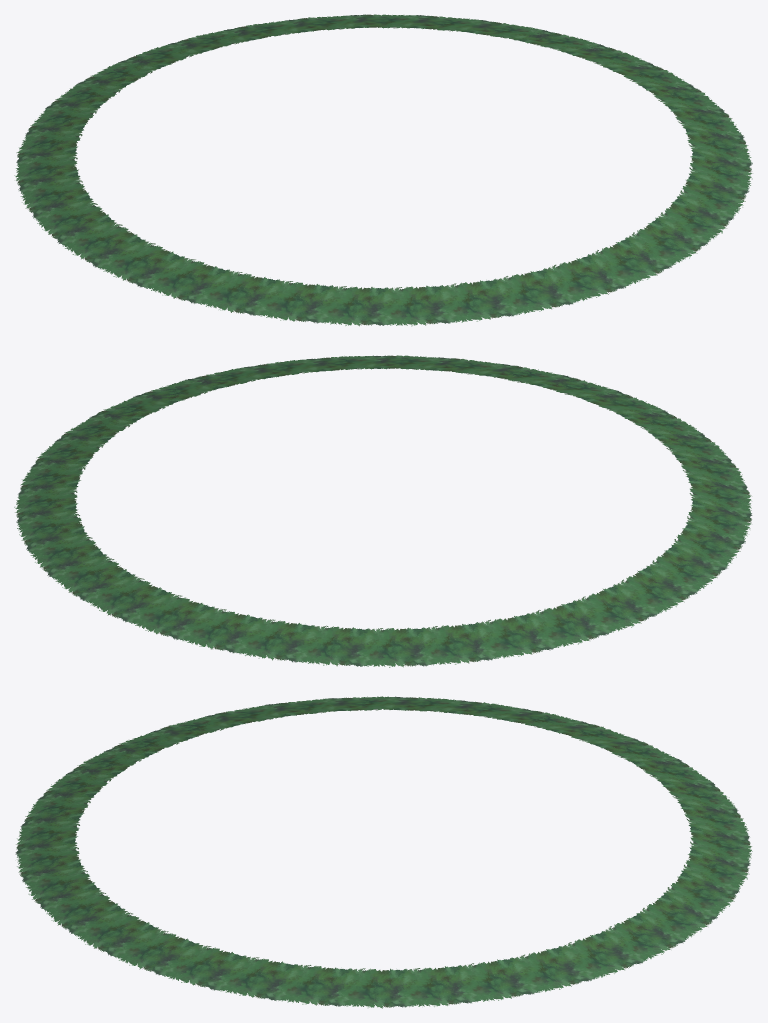
The model's file is grass_mesh_05.fbx.
The picture shows the model from 3 angles, top to bottom: view 1: azimuth 30°, elevation 25°; view 2: azimuth 150°, elevation 25°; view 3: azimuth 270°, elevation 25°; orthographic projection.
Visible parts, largest first — view 1: grass_mesh_05; view 2: grass_mesh_05; view 3: grass_mesh_05.
Part boxes in pixels (bbox=[...]): grass_mesh_05: bbox=[14, 14, 752, 326]; grass_mesh_05: bbox=[14, 355, 752, 667]; grass_mesh_05: bbox=[15, 696, 752, 1008].
Size of the model in its own units: 113 by 2.22 by 113.
